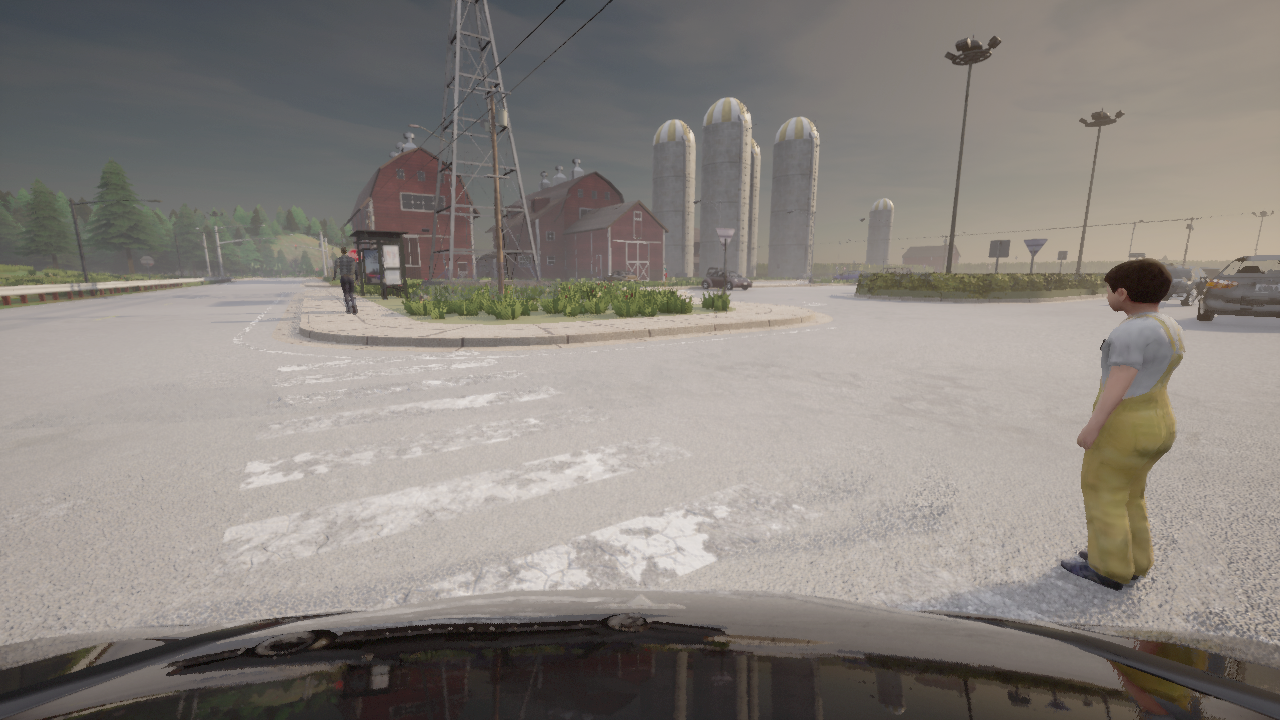cyclist: (0, 588, 1279, 719), (1197, 254, 1279, 321), (1162, 265, 1209, 306), (701, 270, 751, 289), (1161, 263, 1220, 278), (603, 270, 637, 282), (833, 270, 865, 279), (877, 267, 914, 273), (706, 267, 723, 277)
pedestrian: (1060, 258, 1184, 589), (332, 246, 358, 313), (662, 263, 669, 287)
